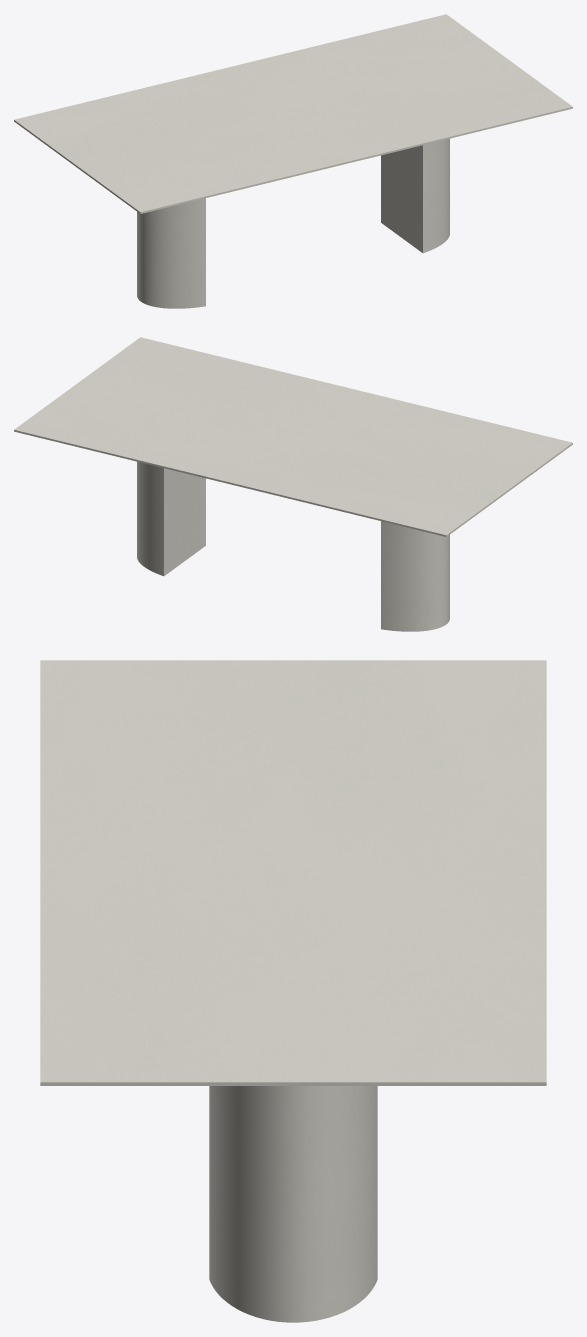
Rendered from pale_recta_facet_hillside.glb.
3 views of the same model, one above another, from view 1: azimuth 30°, elevation 25°; view 2: azimuth 150°, elevation 25°; view 3: azimuth 270°, elevation 25° (orthographic). The views are drawn at different scales.
Visible parts, largest first — view 1: facet_recta, hillside; view 2: facet_recta, hillside; view 3: facet_recta, hillside.
Boxes of the visible parts, box(x1,y1,x2,y2) form: facet_recta: box(14, 14, 572, 213); hillside: box(137, 138, 449, 308); facet_recta: box(14, 337, 572, 536); hillside: box(137, 461, 449, 631); facet_recta: box(40, 660, 546, 1085); hillside: box(209, 1086, 377, 1322).
Size of the model in its own units: 7.5 by 2.51 by 3.8.
Materials: 1 (1 with a texture image).
